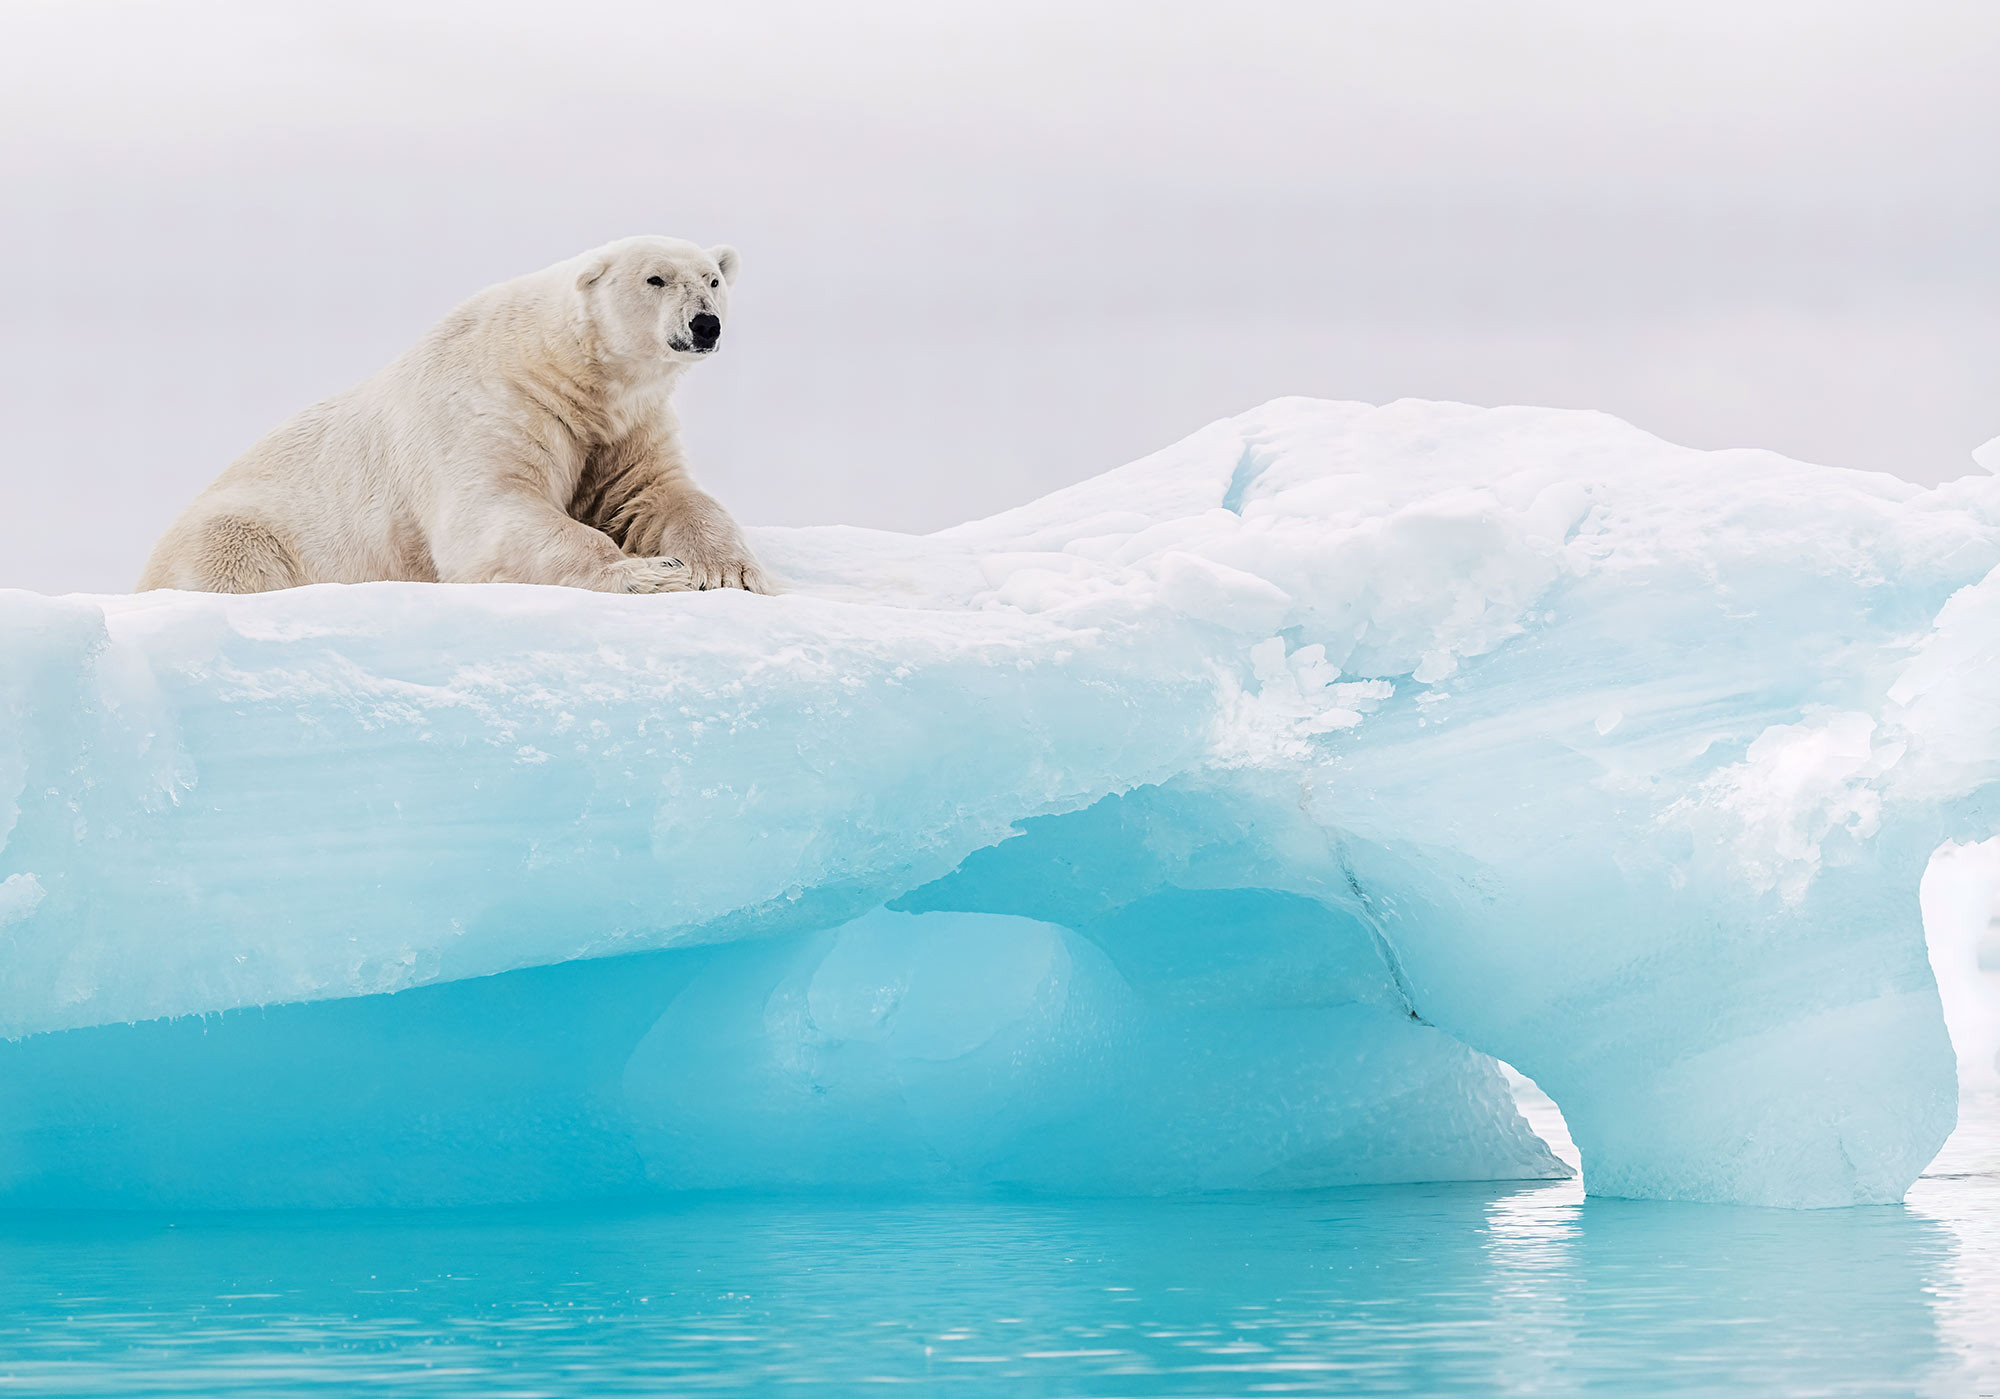PolarBear: (53, 196, 857, 662)
